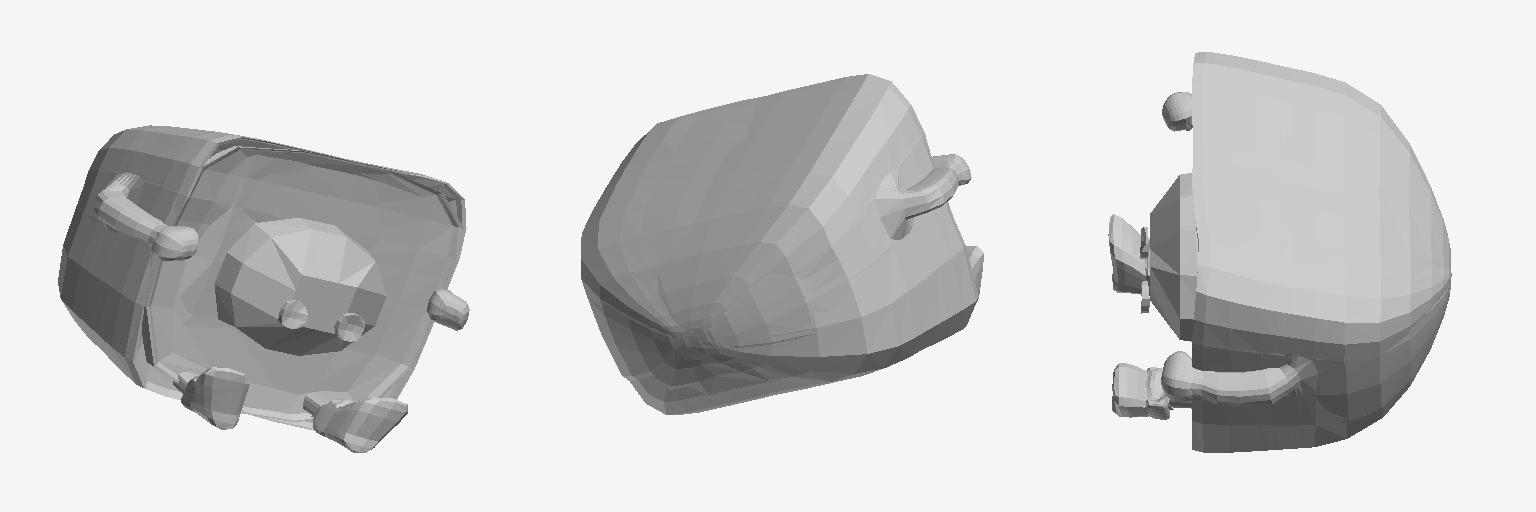
The model's file is Pal_000005.obj.
3 views of the same model, side by side, from view 1: azimuth 30°, elevation 25°; view 2: azimuth 150°, elevation 25°; view 3: azimuth 270°, elevation 25° (orthographic).
Parts seen in each view (by area): view 1: Cuerpo_de_aguacate_3.001_Cube.002, Hueso_Cubo.003, Ojos_Cubo.002; view 2: Cuerpo_de_aguacate_3.001_Cube.002; view 3: Cuerpo_de_aguacate_3.001_Cube.002, Hueso_Cubo.003.
Boxes of the visible parts, <box> form: Cuerpo_de_aguacate_3.001_Cube.002: <box>58,125,469,452</box>; Hueso_Cubo.003: <box>214,218,386,355</box>; Ojos_Cubo.002: <box>278,300,364,341</box>; Cuerpo_de_aguacate_3.001_Cube.002: <box>581,74,983,414</box>; Cuerpo_de_aguacate_3.001_Cube.002: <box>1108,52,1451,452</box>; Hueso_Cubo.003: <box>1150,173,1197,341</box>.
Bounding box in the file's own units: 1.15 × 1.07 × 1.01.